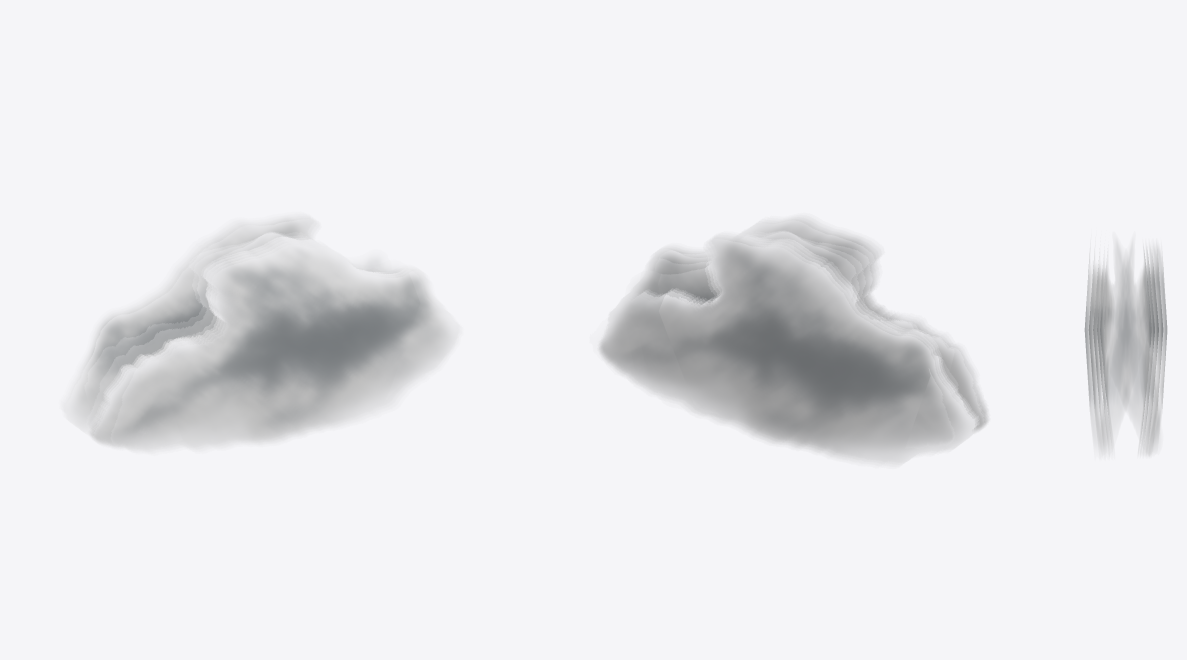
File: model-morning.glb
The picture shows the model from 3 angles, left to right: view 1: azimuth 30°, elevation 25°; view 2: azimuth 150°, elevation 25°; view 3: azimuth 270°, elevation 25°; orthographic projection. The views are drawn at different scales.
Parts seen in each view (by area): view 1: cloud-1.004, cloud-1.002, cloud-1.001, cloud-1; view 2: cloud-1.004, cloud-1.001, cloud-1, cloud-1.002; view 3: cloud-1.004, cloud-1.001, cloud-1.002.
Part boxes in pixels (<box>): cloud-1.004: <box>64,217,454,450</box>; cloud-1.002: <box>116,305,215,370</box>; cloud-1.001: <box>115,259,382,441</box>; cloud-1: <box>114,270,393,386</box>; cloud-1.004: <box>600,218,987,462</box>; cloud-1.001: <box>614,280,719,359</box>; cloud-1: <box>648,263,841,301</box>; cloud-1.002: <box>669,260,945,438</box>; cloud-1.004: <box>1085,246,1166,455</box>; cloud-1.001: <box>1099,244,1158,434</box>; cloud-1.002: <box>1103,244,1145,428</box>.
Size of the model in its own units: 7.22 by 7.22 by 1.43.
Materials: 12 (12 with a texture image).
